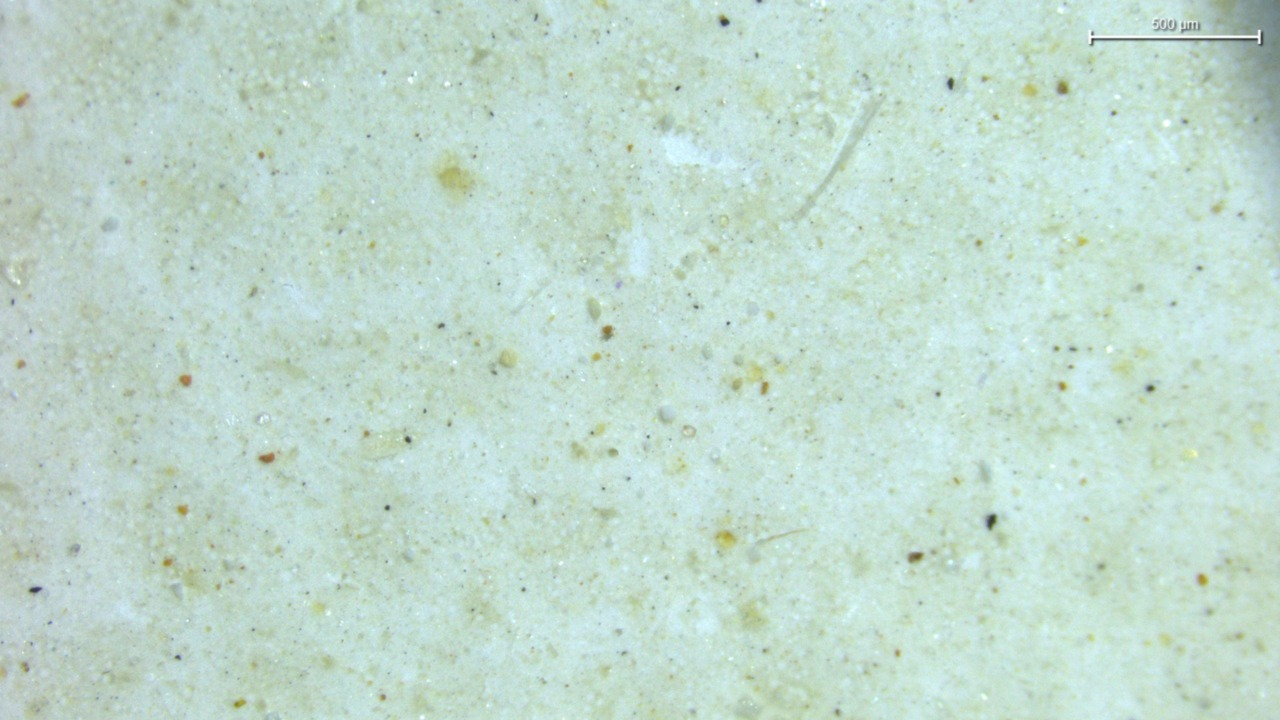microplastic_fragment: (657, 405, 676, 423)
